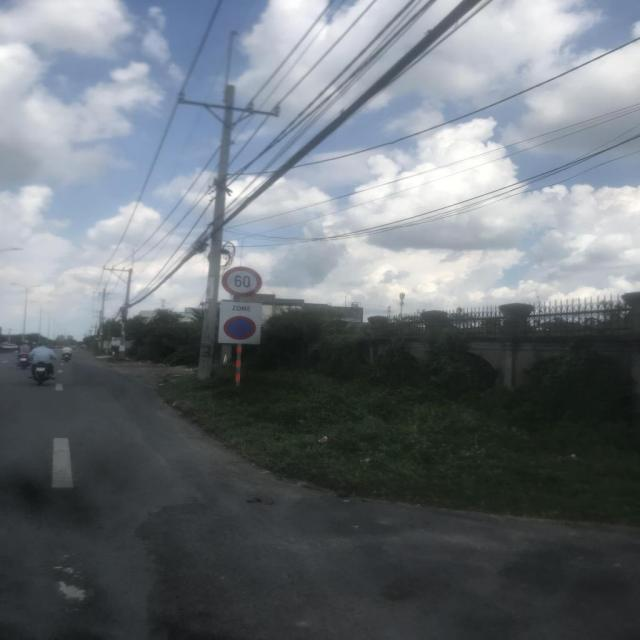cam_do_xe: (222, 316, 256, 342)
toc_do_toi_da_60: (221, 266, 264, 298)
